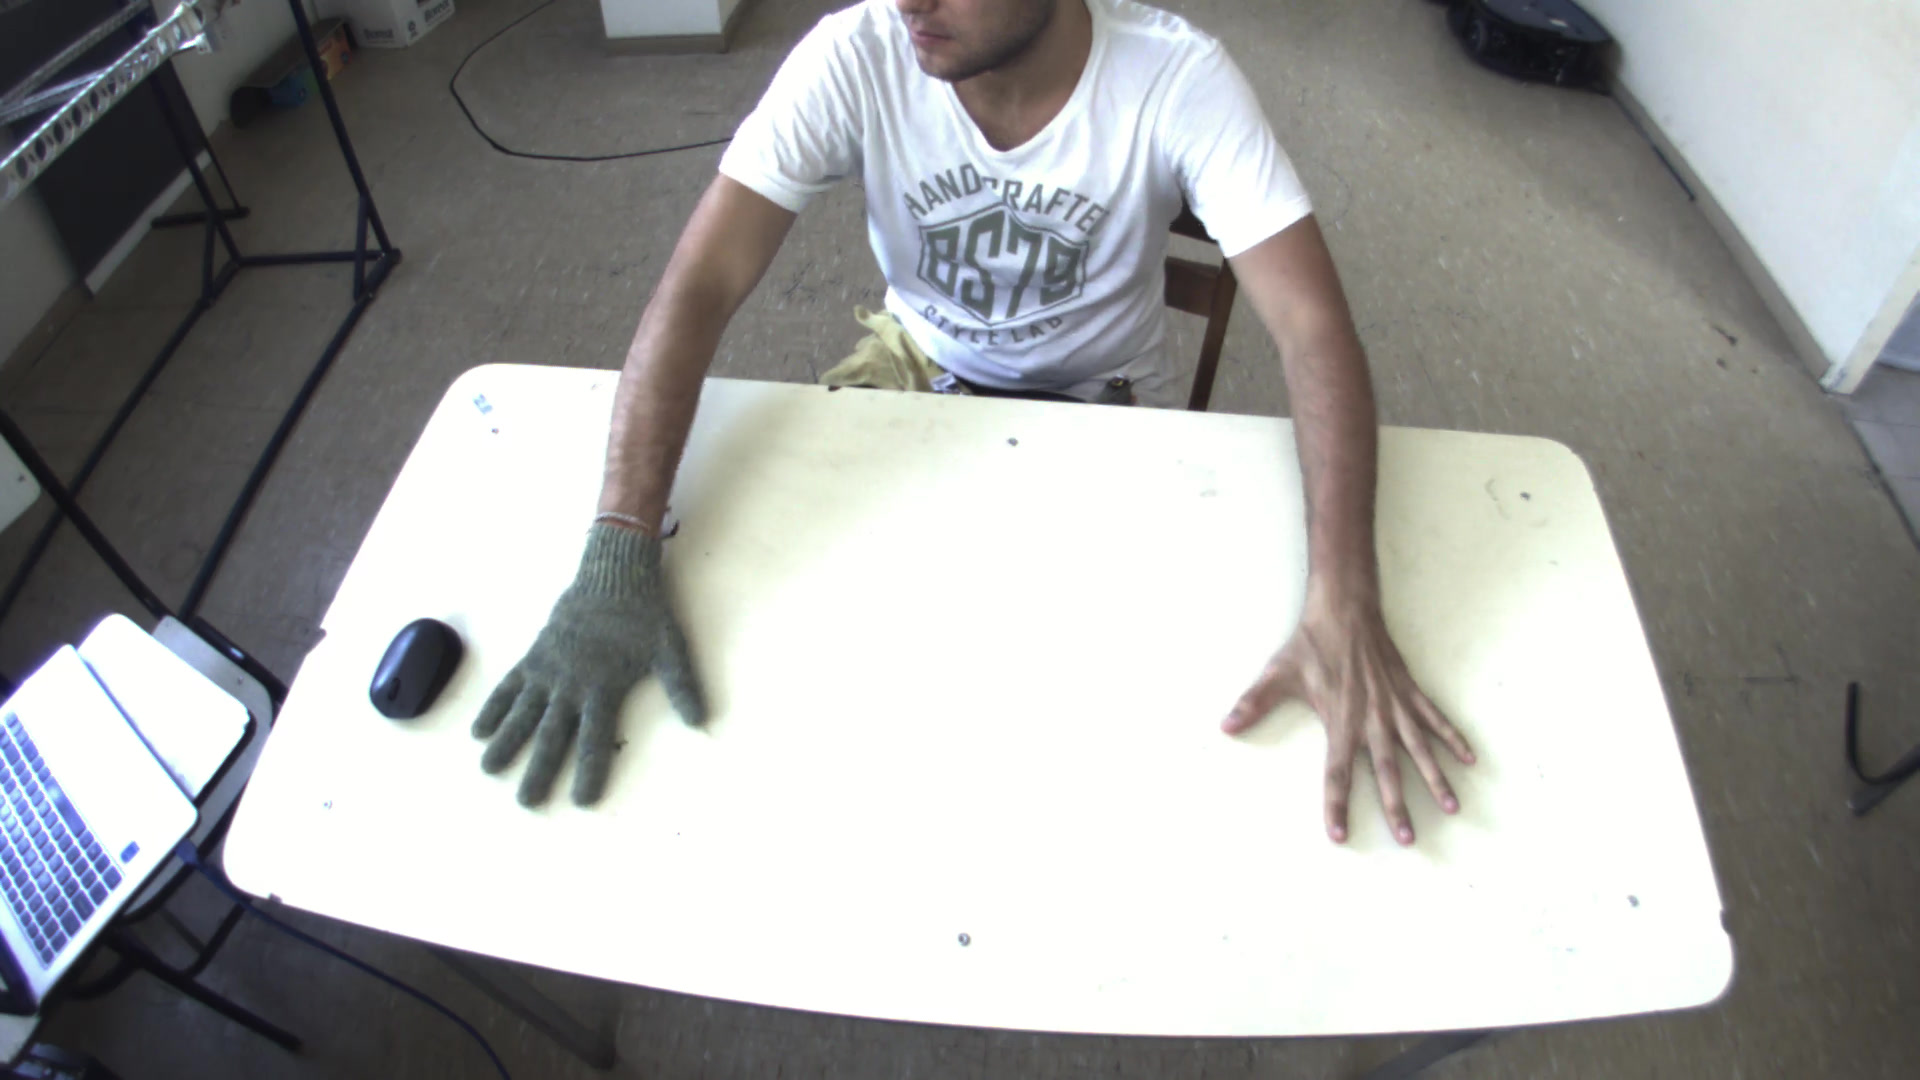hand: (1215, 546, 1505, 861), (458, 502, 690, 819)
